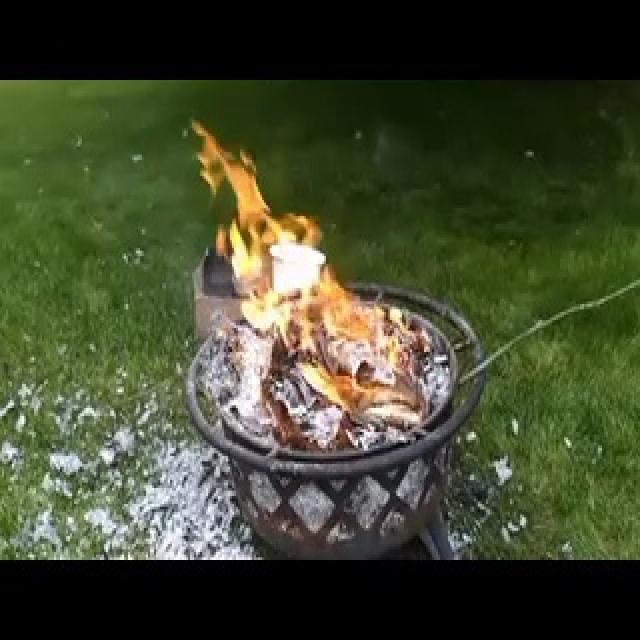fire: (167, 160, 415, 446)
